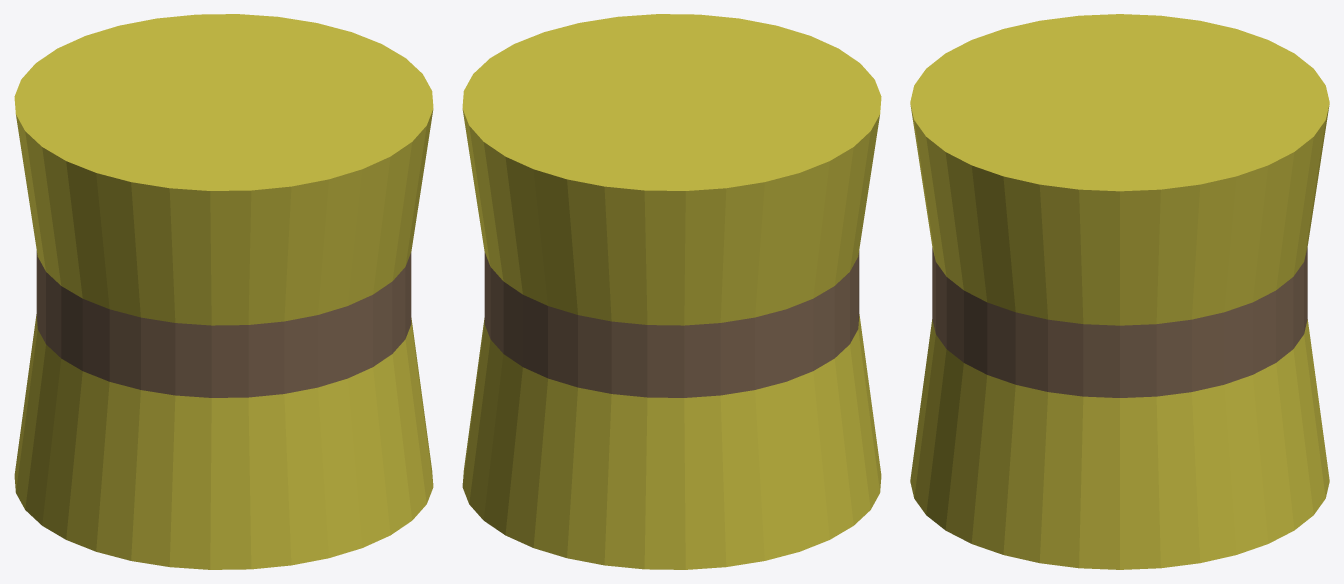
Rendered from botte2.fbx.
The picture shows the model from 3 angles, left to right: view 1: azimuth 30°, elevation 25°; view 2: azimuth 150°, elevation 25°; view 3: azimuth 270°, elevation 25°; orthographic projection.
Parts seen in each view (by area): view 1: Cylinder; view 2: Cylinder; view 3: Cylinder.
Boxes of the visible parts, x1=… form: Cylinder: x1=14, y1=14, x2=433, y2=569; Cylinder: x1=462, y1=14, x2=881, y2=569; Cylinder: x1=910, y1=14, x2=1329, y2=569.
Size of the model in its own units: 205 by 204 by 205.
